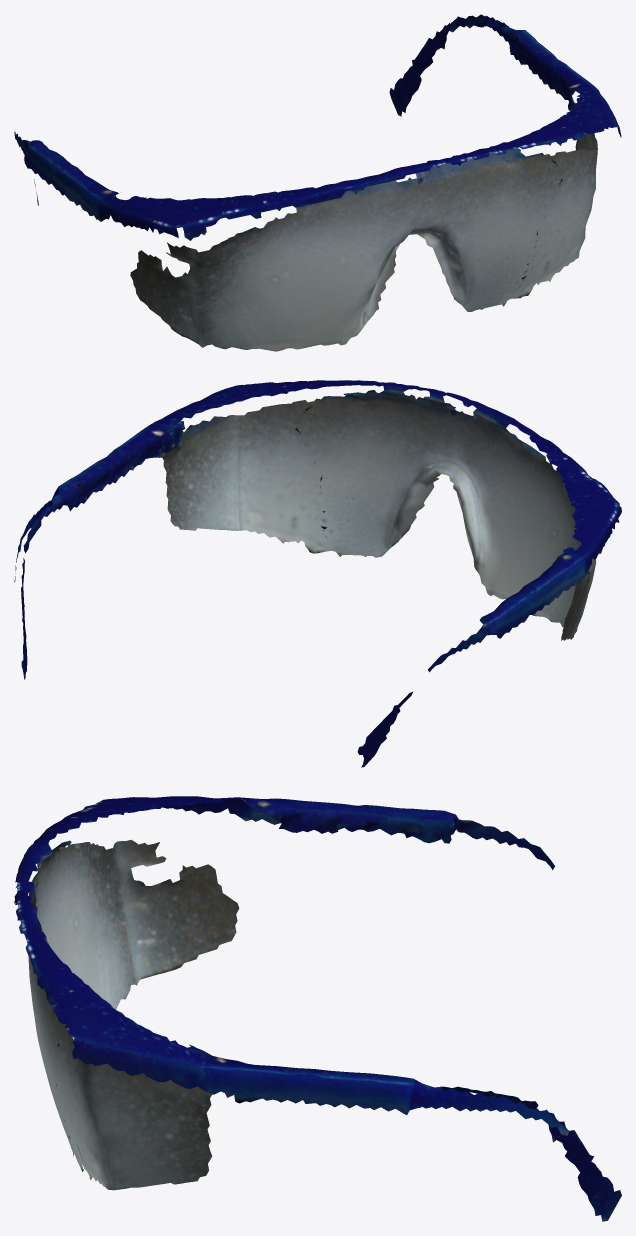
Rendered from scan_align.obj.
The picture shows the model from 3 angles, top to bottom: view 1: azimuth 30°, elevation 25°; view 2: azimuth 150°, elevation 25°; view 3: azimuth 270°, elevation 25°; orthographic projection. The views are drawn at different scales.
Size of the model in its own units: 0.1554 by 0.0545 by 0.1359.
1 material, 1 textured.
